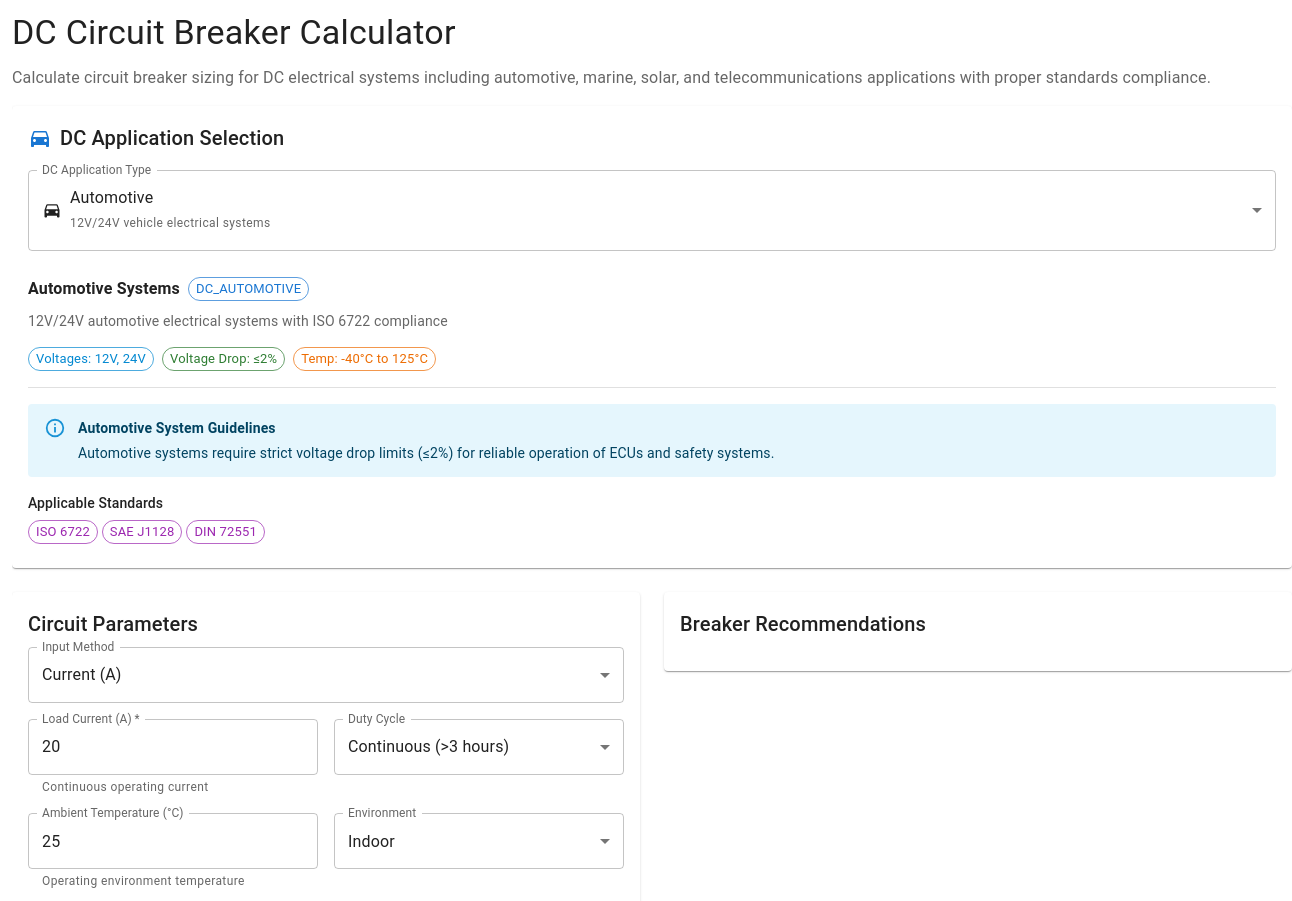
Test: DC Breaker Calculator › Power-Based Input Method › should show power inputs when power method is selected
Check: the heading "DC Circuit Breaker Calculator" is shown, box [12,12,456,52]
// Trigger change event directly on the select container
Replace the text in the field labelled "Current (A)" with "power": (326, 675) [28,647,624,703]
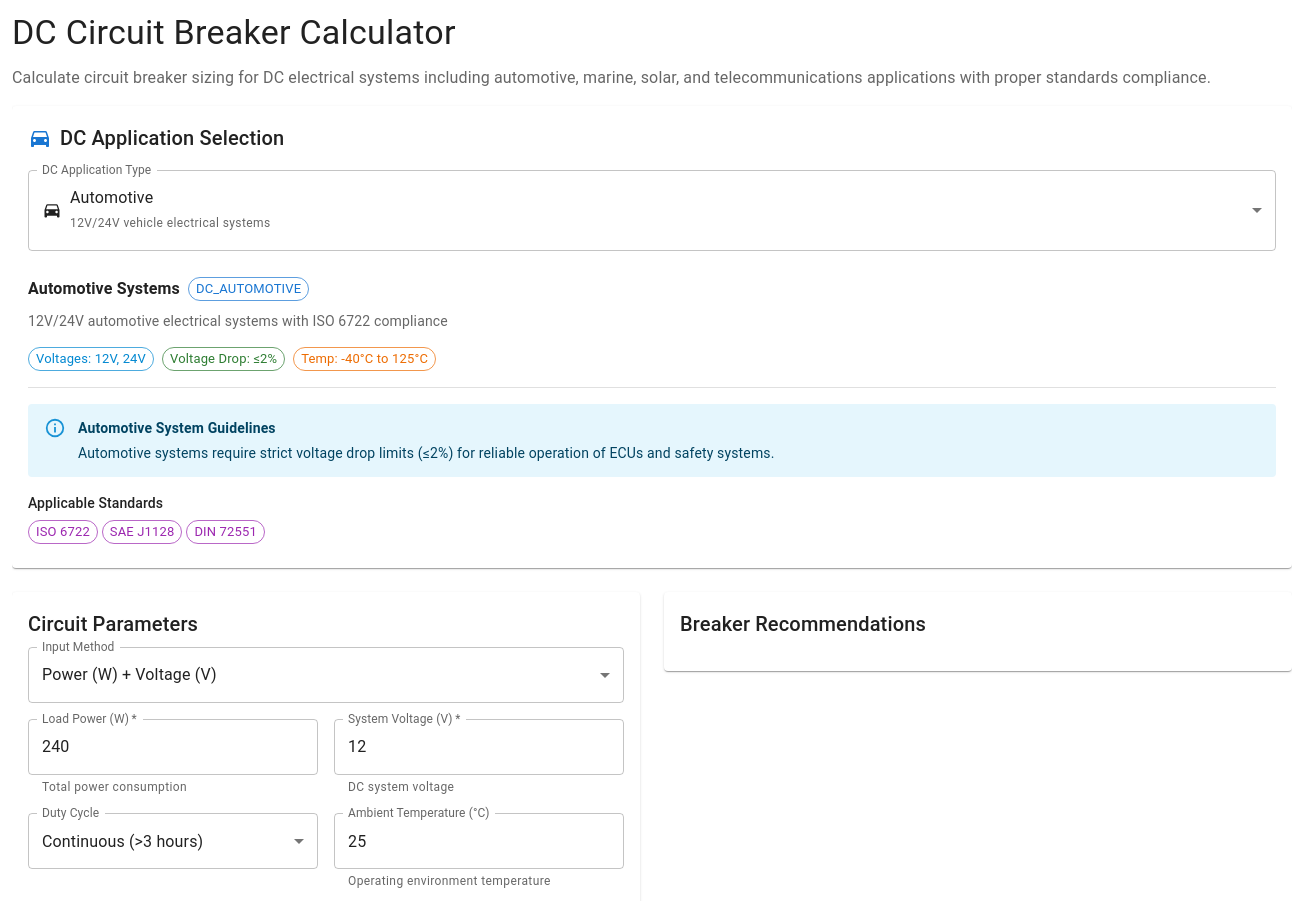
Check: the text "Load Power (W)" is shown, box [42,711,129,725]
Check: the text "System Voltage (V)" is shown, box [348,711,453,725]
Check: the text "Load Current (A)" is gone
